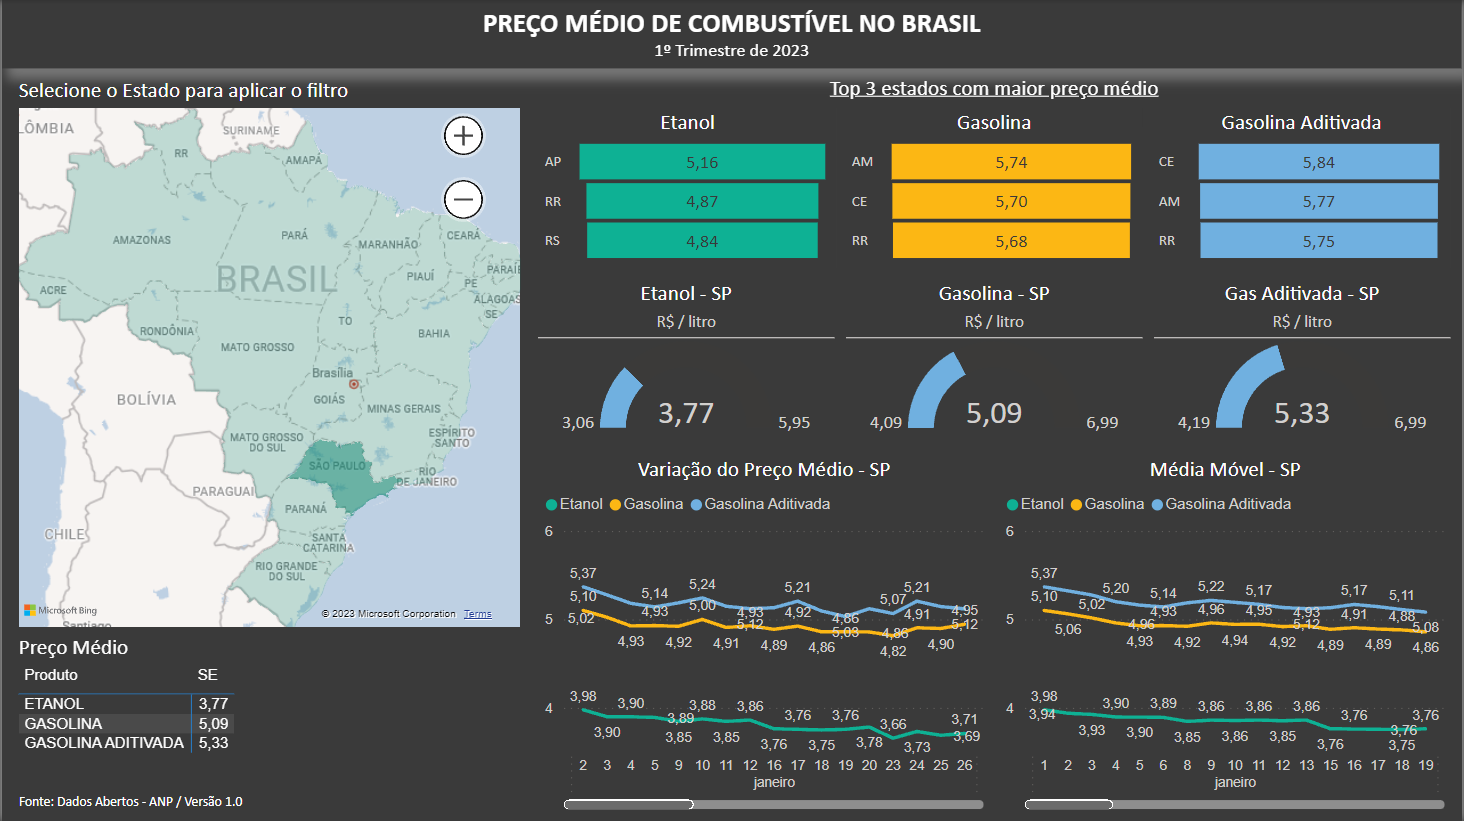

The page's visual inventory and layout, read from the dashboard file:
{"tool":"powerbi","page":{"name":"Preço Médio","canvas":[1280,720],"ordinal":0},"visuals":[{"type":"lineChart","fields":{"Category":["preco_tratado.Data_Coleta.Variation.Hierarquia de datas.Mês","preco_tratado.Data_Coleta.Variation.Hierarquia de datas.Dia"],"Y":["Medidas.MediaNacEtanol","Medidas.MediaNacGasComum","Medidas.MediaNacGasAdit"]},"box":[470.9,395,395,320],"z":0},{"type":"lineChart","fields":{"Y":["Medidas.Média móvel de MediaNacEtanol","Medidas.Média móvel de MediaNacGasComum","Medidas.Média móvel de MediaNacGasAdit"],"Category":["preco_tratado.Data_Coleta.Variation.Hierarquia de datas.Mês","preco_tratado.Data_Coleta.Variation.Hierarquia de datas.Dia"]},"box":[874.9,395,395.1,320],"z":1000},{"type":"filledMap","title":"Selecione o Estado para aplicar o filtro","fields":{"Category":["preco_tratado.Estado"]},"box":[10,65,450,490],"z":2000},{"type":"pivotTable","fields":{"Rows":["preco_tratado.Produto"],"Columns":["preco_tratado.Regiao"],"Values":["Medidas.MediaValorVenda"]},"box":[10,554.7,450,123.7],"z":3000},{"type":"funnel","title":"Gasolina ","fields":{"Category":["TOPMediaGas.Estado"],"Y":["Avg(TOPMediaGas.GAS)"]},"box":[740.2,95,260,140.1],"z":4000},{"type":"textbox","box":[0,0,1280,60],"z":5000},{"type":"funnel","title":"Gasolina Aditivada","fields":{"Category":["TOPMediaGasAdit.Estado"],"Y":["Avg(TOPMediaGasAdit.GAS_ADIT)"]},"box":[1009.6,95,260.7,140.1],"z":6000},{"type":"funnel","title":"Etanol","fields":{"Category":["TOPMediaEtanol.Estado"],"Y":["Avg(TOPMediaEtanol.ETANOL)"]},"box":[470.8,95,260.7,140.1],"z":7000},{"type":"textbox","title":"Top 3 estados com maior preço médio","box":[470.2,65,800.1,30],"z":8000},{"type":"textbox","box":[10,690,225.5,25.9],"z":9000},{"type":"textbox","box":[470,245.1,260,52],"z":10000},{"type":"gauge","fields":{"Y":["Medidas.MediaNacEtanol"],"MinValue":["Medidas.MinMediaNacEtanol"],"MaxValue":["Medidas.MaxMediaNacEtanol"]},"box":[470,297.6,259.7,87.5],"z":11000},{"type":"textbox","box":[740,245,260,52],"z":12000},{"type":"gauge","fields":{"Y":["Medidas.MediaNacGasComum"],"MinValue":["Medidas.MinMediaNacGas"],"MaxValue":["Medidas.MaxMediaNacGas"]},"box":[740,297,259.7,87.5],"z":13000},{"type":"textbox","box":[1010.7,245,260,52],"z":14000},{"type":"gauge","fields":{"Y":["Medidas.MediaNacGasAdit"],"MinValue":["Medidas.MinMediaNacGasAdt"],"MaxValue":["Medidas.MaxMediaNacGasAdt"]},"box":[1010.7,297,259.7,87.5],"z":15000}]}

Visuals, with their boxes in screenshot pixels (x1, y1, x2, y2), scaled from the page's 1280x720 canvas onto the 1464x821 screenshot:
lineChart - preco_tratado.Data_Coleta.Variation.Hierarquia de datas.Mês x preco_tratado.Data_Coleta.Variation.Hierarquia de datas.Dia: locate(539, 450, 990, 815)
lineChart - Medidas.Média móvel de MediaNacEtanol x Medidas.Média móvel de MediaNacGasComum: locate(1001, 450, 1453, 815)
"Selecione o Estado para aplicar o filtro" filledMap: locate(11, 74, 526, 633)
pivotTable - preco_tratado.Produto x preco_tratado.Regiao: locate(11, 633, 526, 774)
"Gasolina " funnel: locate(847, 108, 1144, 268)
textbox: locate(0, 0, 1463, 68)
"Gasolina Aditivada" funnel: locate(1155, 108, 1453, 268)
"Etanol" funnel: locate(538, 108, 837, 268)
"Top 3 estados com maior preço médio" textbox: locate(538, 74, 1453, 108)
textbox: locate(11, 787, 269, 816)
textbox: locate(538, 279, 835, 339)
gauge - Medidas.MediaNacEtanol x Medidas.MinMediaNacEtanol: locate(538, 339, 835, 439)
textbox: locate(846, 279, 1144, 339)
gauge - Medidas.MediaNacGasComum x Medidas.MinMediaNacGas: locate(846, 339, 1143, 438)
textbox: locate(1156, 279, 1453, 339)
gauge - Medidas.MediaNacGasAdit x Medidas.MinMediaNacGasAdt: locate(1156, 339, 1453, 438)
